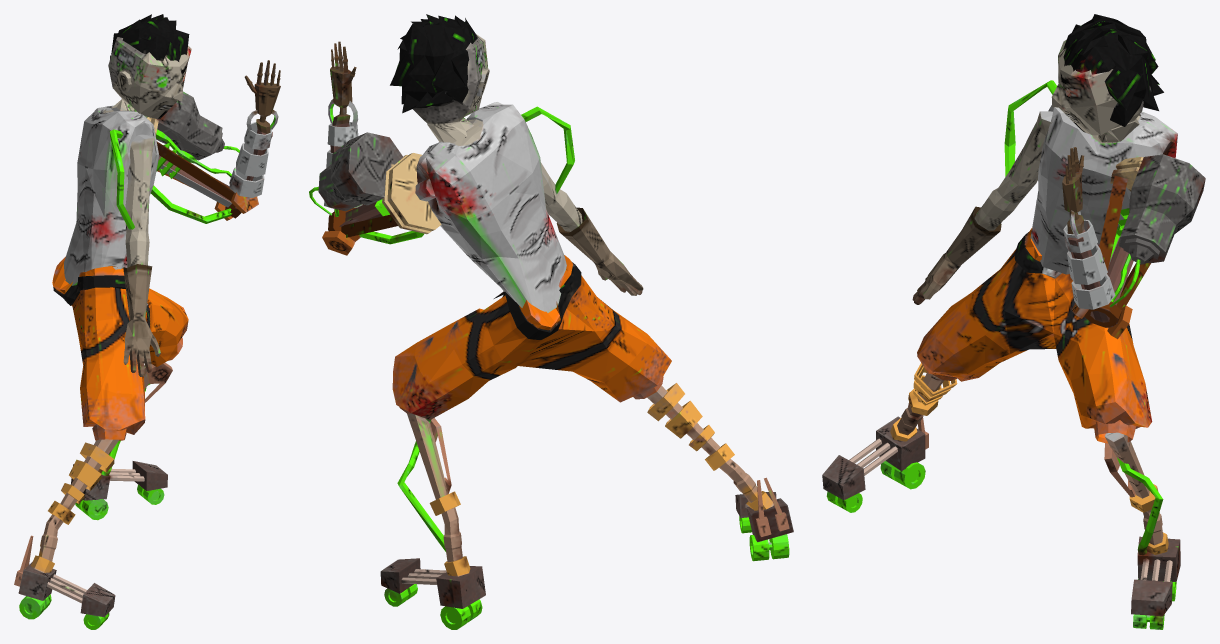
File: CyborgFINALAnimation_000010.obj
3 views of the same model, side by side, from view 1: azimuth 30°, elevation 25°; view 2: azimuth 150°, elevation 25°; view 3: azimuth 270°, elevation 25° (orthographic). The views are drawn at different scales.
Parts seen in each view (by area): view 1: CyborgMesh_Cube.002; view 2: CyborgMesh_Cube.002; view 3: CyborgMesh_Cube.002.
Part boxes in pixels (x1,y1,x2,y2): CyborgMesh_Cube.002: (14,14,280,629); CyborgMesh_Cube.002: (309,14,793,629); CyborgMesh_Cube.002: (822,14,1205,629).
Bounding box in the file's own units: 5.94 × 8.57 × 4.95.
